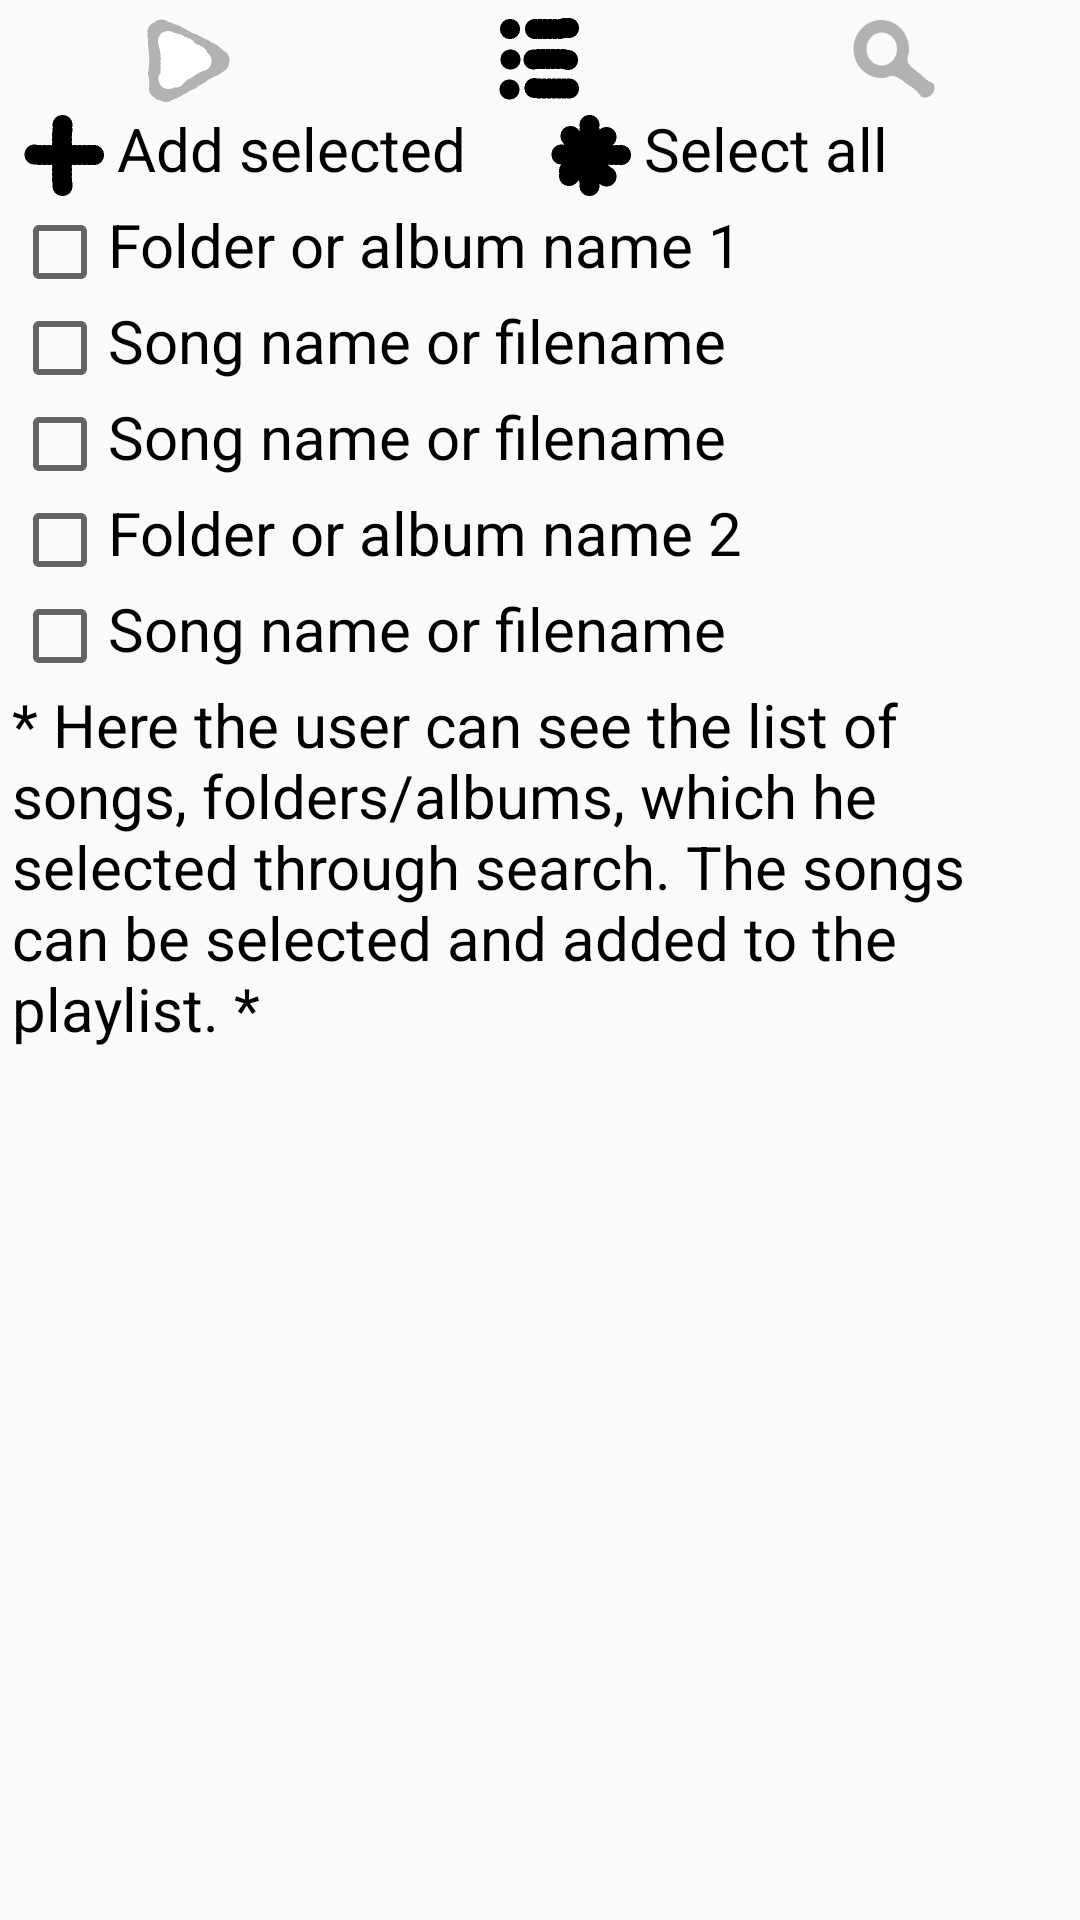

Screen size 1080×1920. Icon name, then its box in pixels as (x1, y1, x2, y2):
library: (499, 18, 579, 100)
play: (147, 19, 230, 102)
search: (853, 20, 935, 98)
